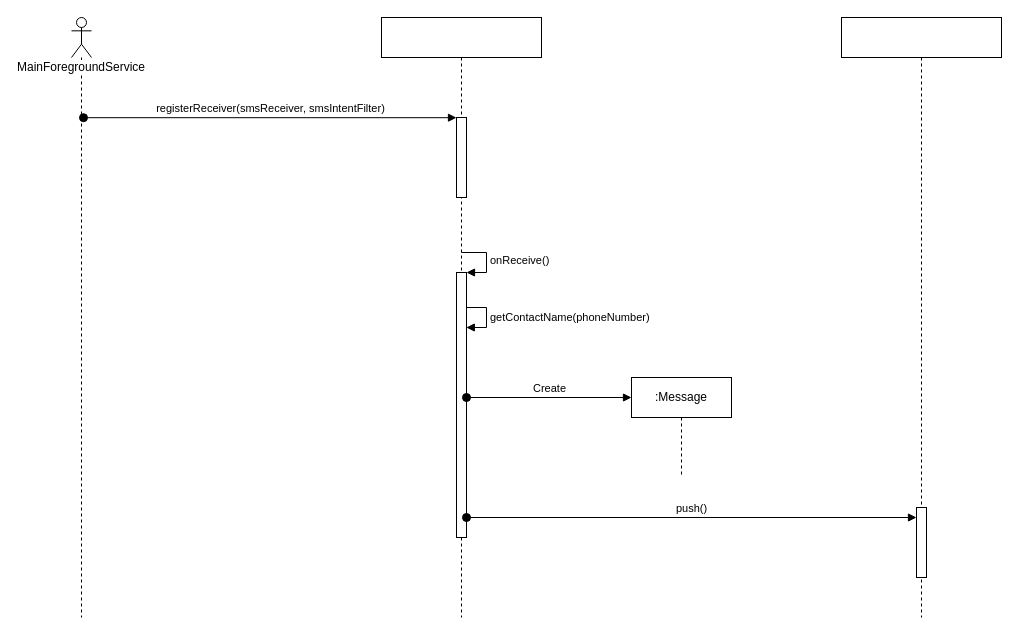
Some shapes in this 1019 by 635 pixel diagram are drawn without their labels. Here are the shapes that lost their labels. From the top down, the box of each, then its label:
(380, 16, 542, 618): :SmsReceiver
(840, 16, 1002, 618): :DatabaseRefrence
